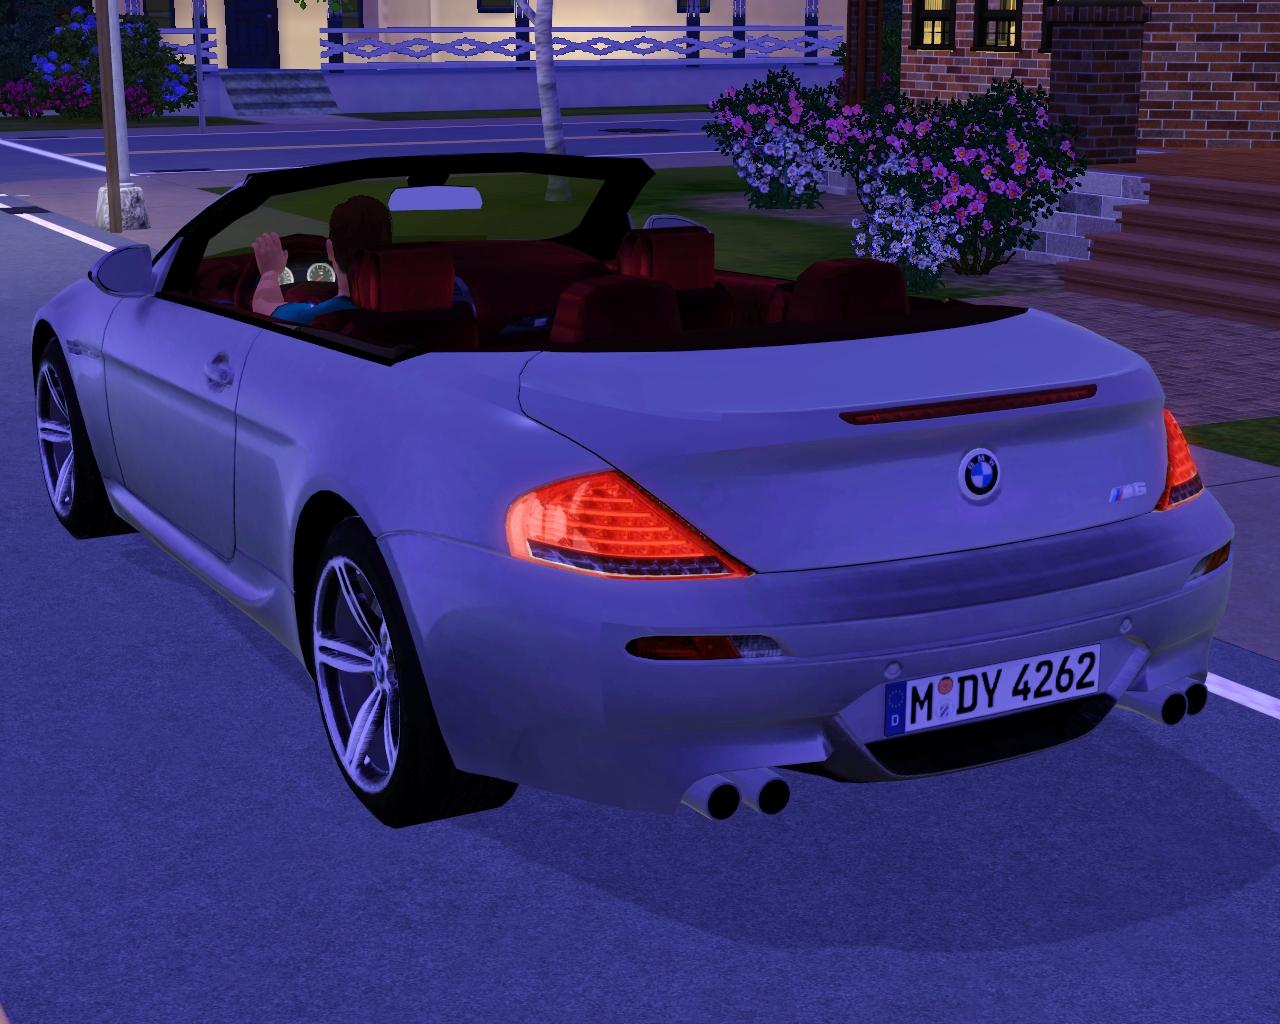Car: (9, 114, 1249, 864)
